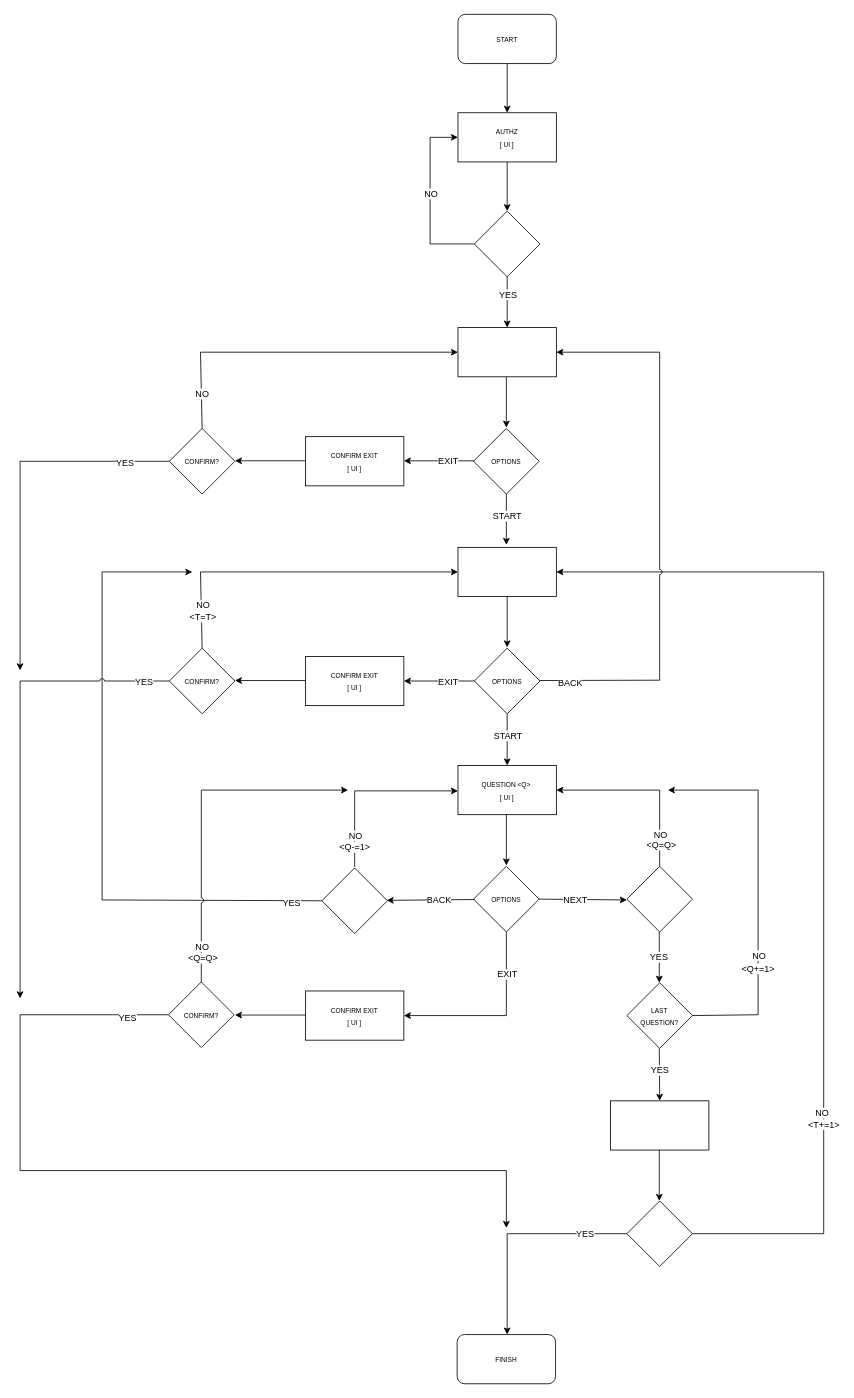
Image size: 854x1398. Some labels were removed from this diagram. Each missing label, with the box of its shape:
ANSWERED?: (626, 866, 692, 932)
FIRST QUESTION?: (321, 867, 387, 934)
GREETINGS [ UI ]: (457, 327, 556, 377)
LAST TEST?: (626, 1200, 692, 1266)
SAVE TEST RESULT: (610, 1100, 709, 1150)
SUCCESS?: (474, 210, 540, 277)
TEST <T> DESCRIPTION [ UI ]: (457, 547, 556, 597)
